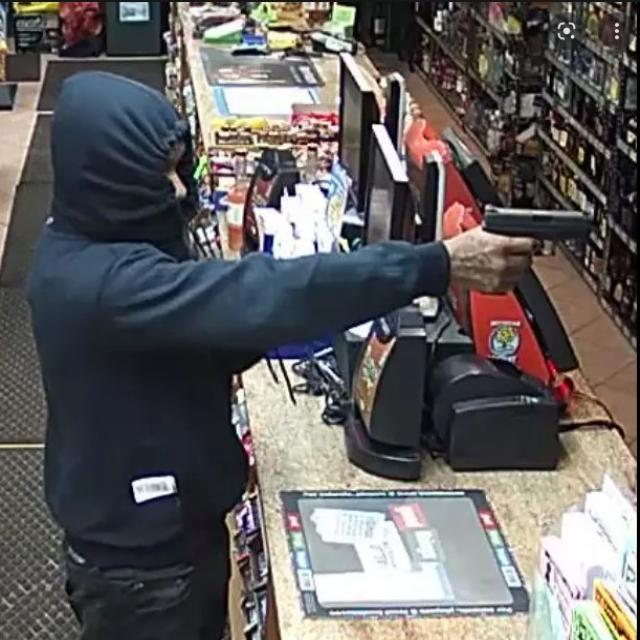gun: (479, 204, 597, 260)
